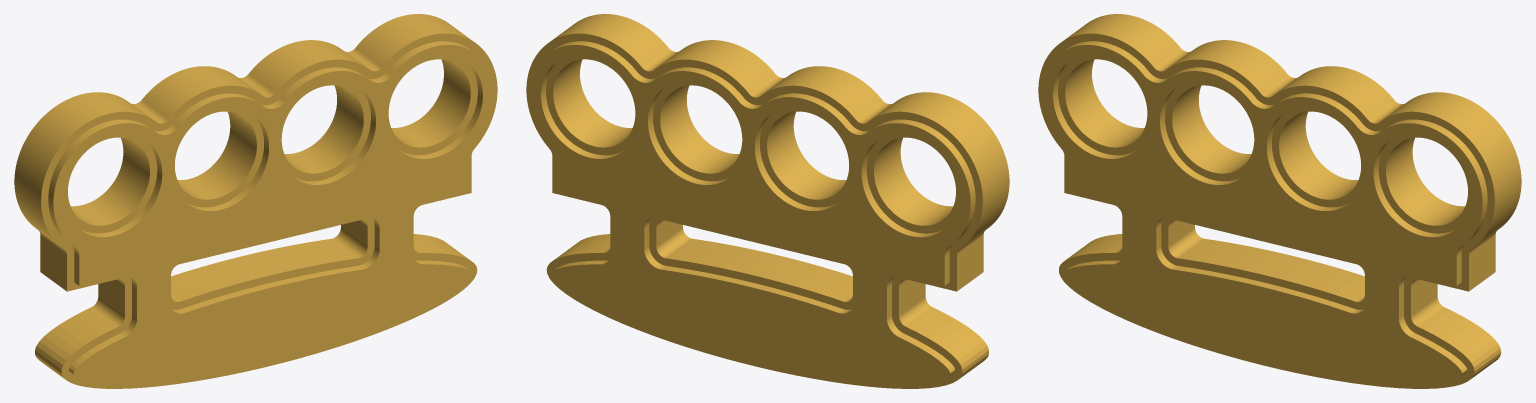
File: Tool_2_BrassKnuckles.glb
3 renders of one model, left to right at view 1: azimuth 30°, elevation 25°; view 2: azimuth 150°, elevation 25°; view 3: azimuth 330°, elevation 25°, orthographic.
Visible parts, largest first — view 1: Knuckles; view 2: Knuckles; view 3: Knuckles.
Part boxes in pixels (x1,y1,x2,y2): Knuckles: (14,14,497,388); Knuckles: (526,14,1009,388); Knuckles: (1038,14,1521,388).
Bounding box in the file's own units: 0.158 × 0.0965 × 0.022.
